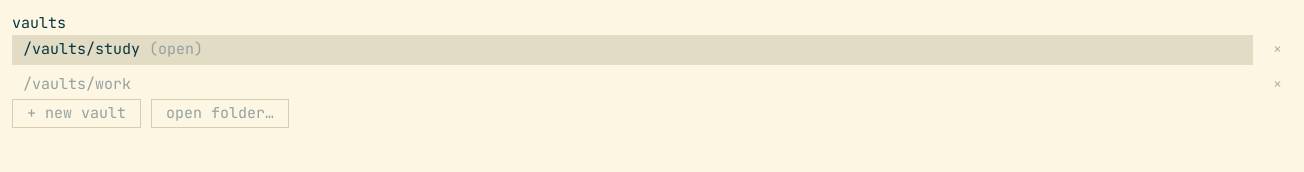
Test: VaultSection › cancel backs out of the confirm row
Click the button named "remove /vaults/work": click(1278, 84) [1263, 70, 1292, 98]
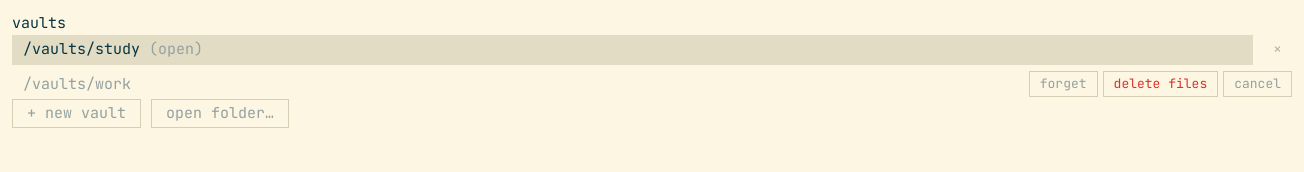
Click the button "cancel": click(1258, 84) [1223, 71, 1292, 97]
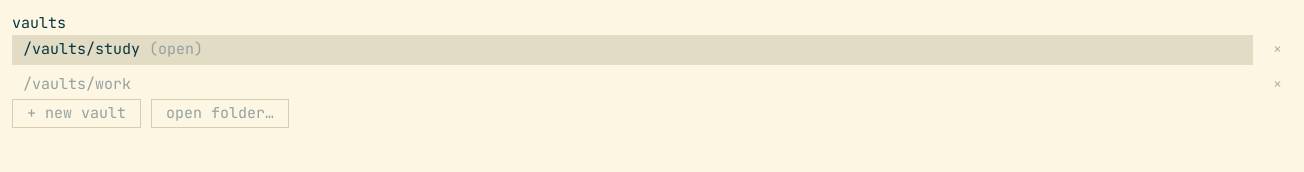
Expected: the button "forget" is gone
